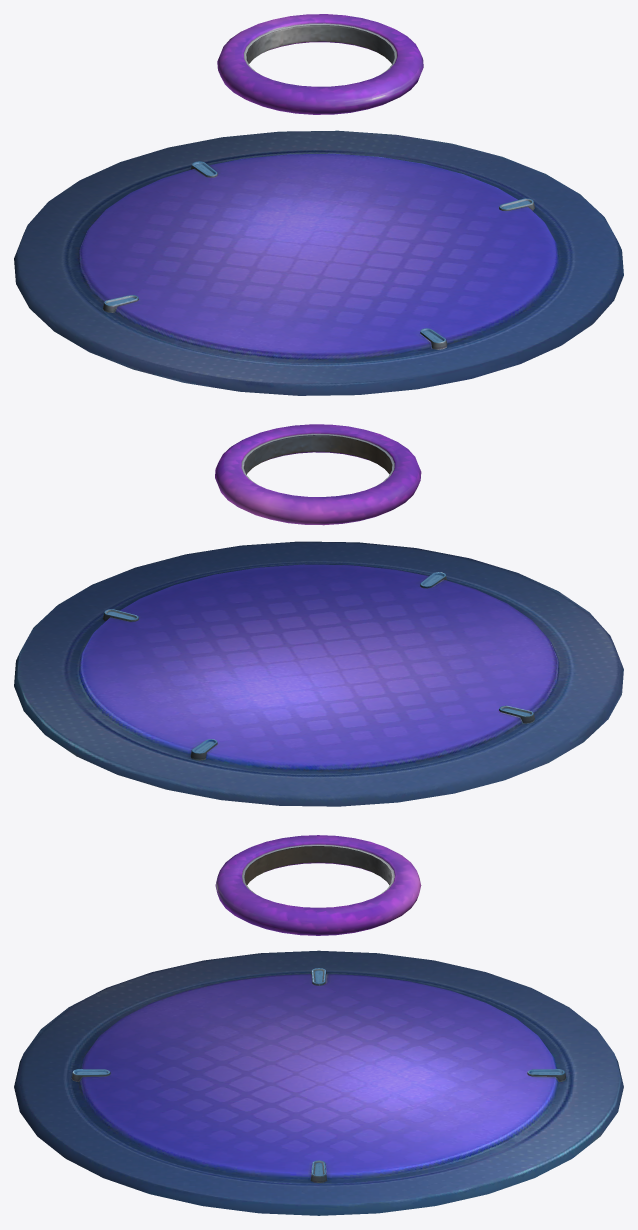
File: pref_TPC_v2_WSJ_NeutralScoreArea03_purple_interfere_lv1.fbx
3 renders of one model, top to bottom at view 1: azimuth 30°, elevation 25°; view 2: azimuth 150°, elevation 25°; view 3: azimuth 270°, elevation 25°, orthographic.
Visible parts, largest first — view 1: sm_prop_platform06a_lv1, sm_prop_platform06b_lv1; view 2: sm_prop_platform06a_lv1, sm_prop_platform06b_lv1; view 3: sm_prop_platform06a_lv1, sm_prop_platform06b_lv1.
Part boxes in pixels (<box>): sm_prop_platform06a_lv1: <box>14,130,623,395</box>; sm_prop_platform06b_lv1: <box>217,14,423,114</box>; sm_prop_platform06a_lv1: <box>14,541,623,806</box>; sm_prop_platform06b_lv1: <box>215,424,421,525</box>; sm_prop_platform06a_lv1: <box>14,950,623,1215</box>; sm_prop_platform06b_lv1: <box>215,835,421,935</box>.
Size of the model in its own units: 7.46 by 2.87 by 7.46.
